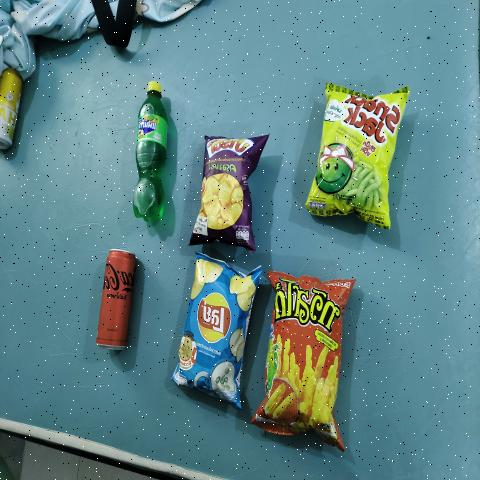coke_red: (94, 248, 135, 350)
fanta_green: (135, 79, 171, 216)
lay_blue: (176, 270, 250, 383)
party_purple: (193, 132, 261, 240)
snack_jack: (314, 89, 393, 215)
twisco: (262, 278, 340, 432)
